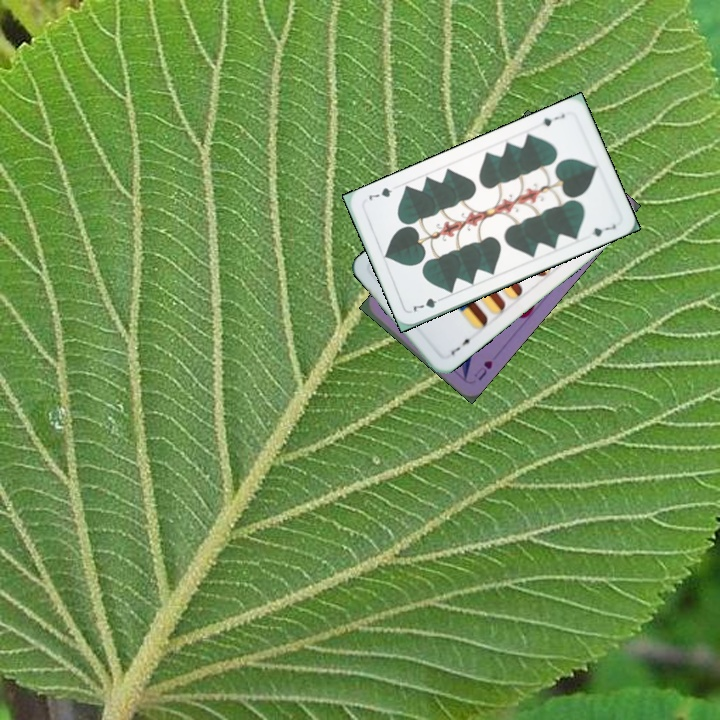E7: (447, 333, 476, 358)
G7: (409, 293, 447, 315), (538, 109, 568, 129)
HU: (470, 356, 495, 383)
